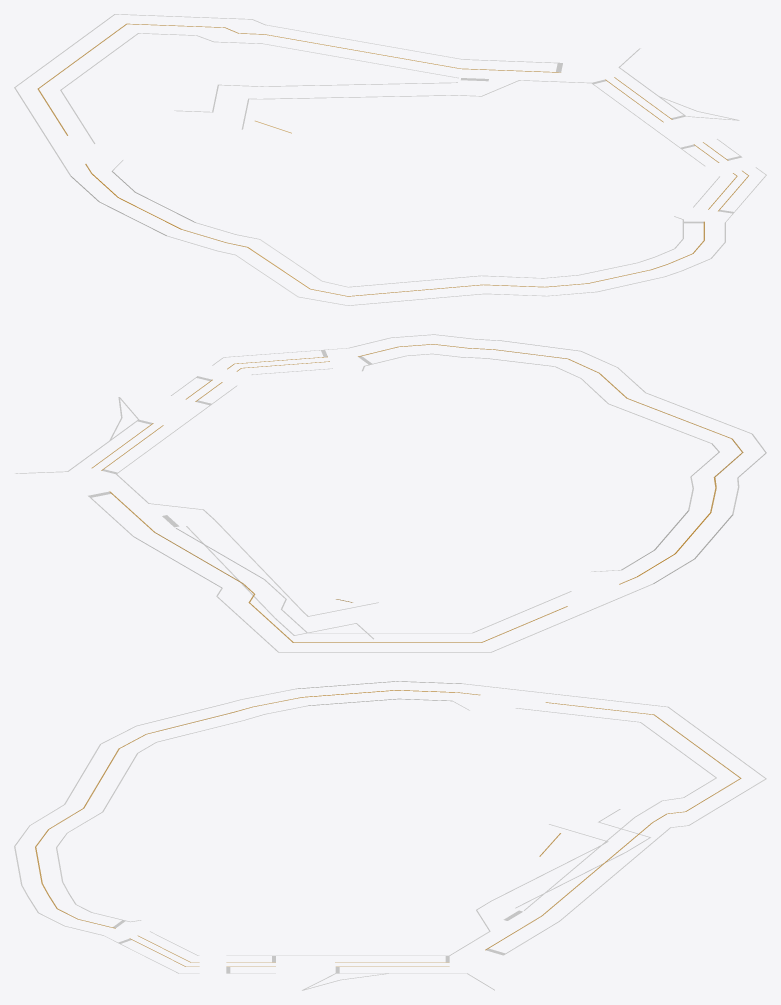
File: kd_stage_13612f_4_38.glb
3 views of the same model, one above another, from view 1: azimuth 30°, elevation 25°; view 2: azimuth 150°, elevation 25°; view 3: azimuth 270°, elevation 25° (orthographic). The views are drawn at different scales.
Visible parts, largest first — view 1: kd_stage_13612f_4_38; view 2: kd_stage_13612f_4_38; view 3: kd_stage_13612f_4_38.
Boxes of the visible parts, bbox=[...] form: kd_stage_13612f_4_38: bbox=[14, 14, 766, 305]; kd_stage_13612f_4_38: bbox=[15, 334, 766, 652]; kd_stage_13612f_4_38: bbox=[14, 681, 766, 990].
Bounding box in the file's own units: 100 × 8 × 113.
1 material, 1 textured.
